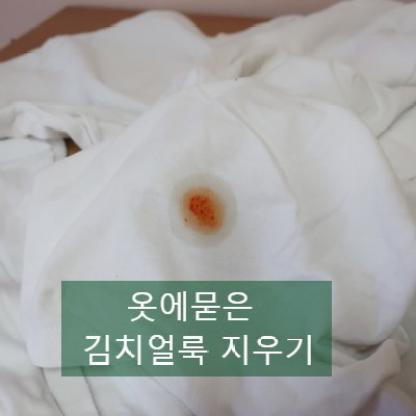kimchi: (172, 179, 225, 238)
